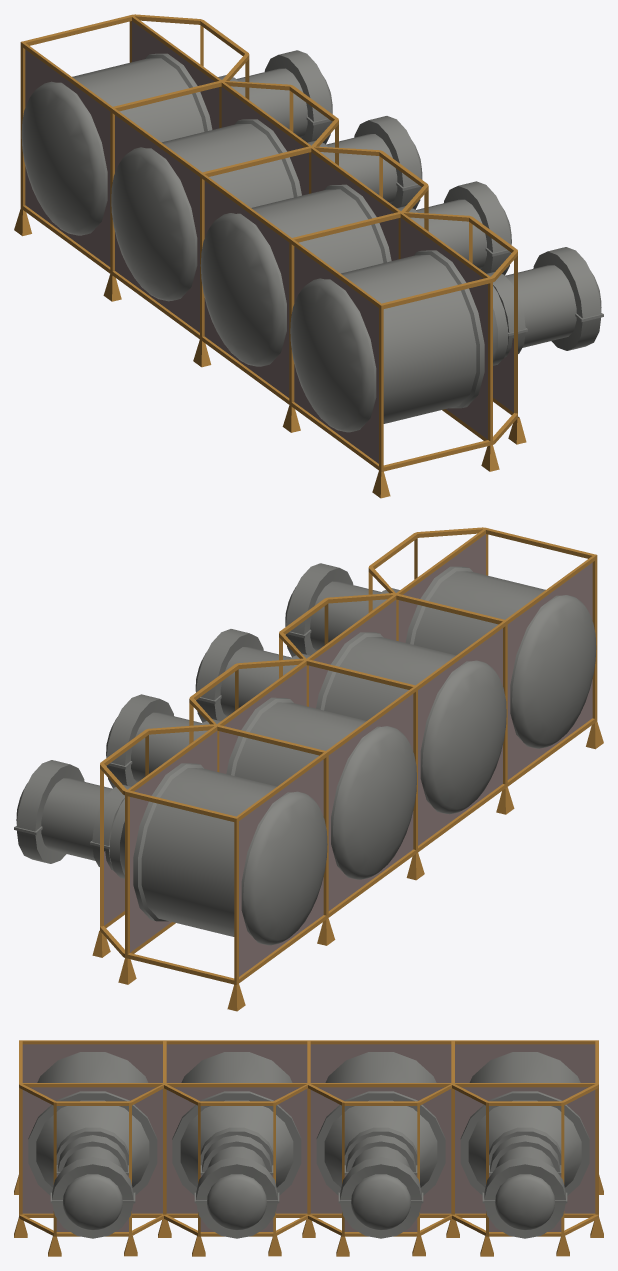
Rendered from Stirling_Free_Piston_Array.glb.
The picture shows the model from 3 angles, top to bottom: view 1: azimuth 30°, elevation 25°; view 2: azimuth 150°, elevation 25°; view 3: azimuth 270°, elevation 25°; orthographic projection. The views are drawn at different scales.
Visible parts, largest first — view 1: Stirling-FreePIstonArray_LOD0; view 2: Stirling-FreePIstonArray_LOD0; view 3: Stirling-FreePIstonArray_LOD0.
Boxes of the visible parts, box(x1,y1,x2,y2) form: Stirling-FreePIstonArray_LOD0: box(14, 14, 603, 498); Stirling-FreePIstonArray_LOD0: box(14, 527, 603, 1011); Stirling-FreePIstonArray_LOD0: box(14, 1040, 603, 1256).
Size of what is drawn, in the model's own units: 0.8647 by 0.5602 by 1.96.
